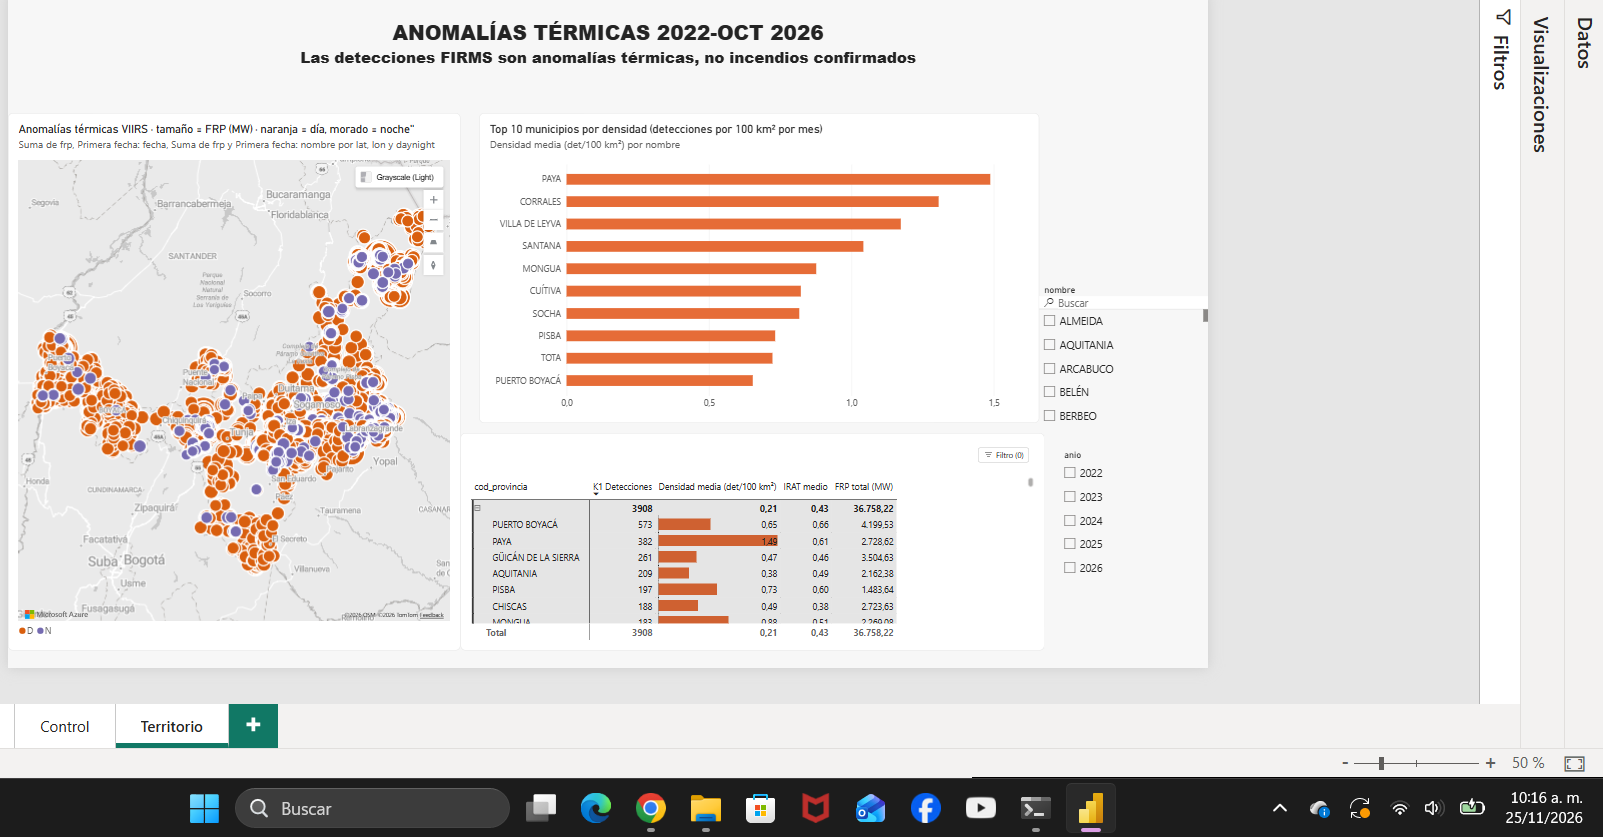

The page's visual inventory and layout, read from the dashboard file:
{"tool":"powerbi","page":{"name":"DISTRIBUCIÓN TERRITORIAL","canvas":[1920,1080],"ordinal":1},"visuals":[{"type":"textbox","box":[0,40,1920,120],"z":0},{"type":"azureMap","title":"Anomalías térmicas VIIRS · tamaño = FRP (MW) · naranja = día, morado = noche","fields":{"Series":["fact_deteccion.daynight"],"Size":["Sum(fact_deteccion.frp)"],"X":["fact_deteccion.lon"],"Y":["fact_deteccion.lat"]},"box":[0,192,724,860],"z":1000},{"type":"clusteredBarChart","title":"Top 10 municipios por densidad (detecciones por 100 km² por mes)","fields":{"Category":["dim_municipio.nombre"],"Y":["_Medidas.Densidad media (det/100 km²)"]},"box":[754,192,896,496],"z":2000},{"type":"pivotTable","fields":{"Rows":["dim_municipio.provincia_municipio.nombre","dim_municipio.provincia"],"Values":["_Medidas.K1 Detecciones","_Medidas.Densidad media (det/100 km²)","_Medidas.IRAT medio","_Medidas.FRP total (MW)"]},"box":[724,704,934,348],"z":3000},{"type":"slicer","fields":{"Values":["dim_mes.anio"]},"box":[1682,730,202,236],"z":4000},{"type":"slicer","fields":{"Values":["dim_municipio.nombre"]},"box":[1650,466,270,222],"z":5000}]}

Visuals, with their boxes on the page's 1920x1080 design canvas (x1, y1, x2, y2). These are canvas units, not pixel positions in the 1603x837 screenshot, which may show the page scaled, cropped or inside an application window:
textbox: {"left": 0, "top": 40, "right": 1920, "bottom": 160}
"Anomalías térmicas VIIRS · tamaño = FRP (MW) · naranja = día, morado = noche" azureMap: {"left": 0, "top": 192, "right": 724, "bottom": 1052}
"Top 10 municipios por densidad (detecciones por 100 km² por mes)" clusteredBarChart: {"left": 754, "top": 192, "right": 1650, "bottom": 688}
pivotTable - dim_municipio.provincia_municipio.nombre x dim_municipio.provincia: {"left": 724, "top": 704, "right": 1658, "bottom": 1052}
slicer - dim_mes.anio: {"left": 1682, "top": 730, "right": 1884, "bottom": 966}
slicer - dim_municipio.nombre: {"left": 1650, "top": 466, "right": 1920, "bottom": 688}
